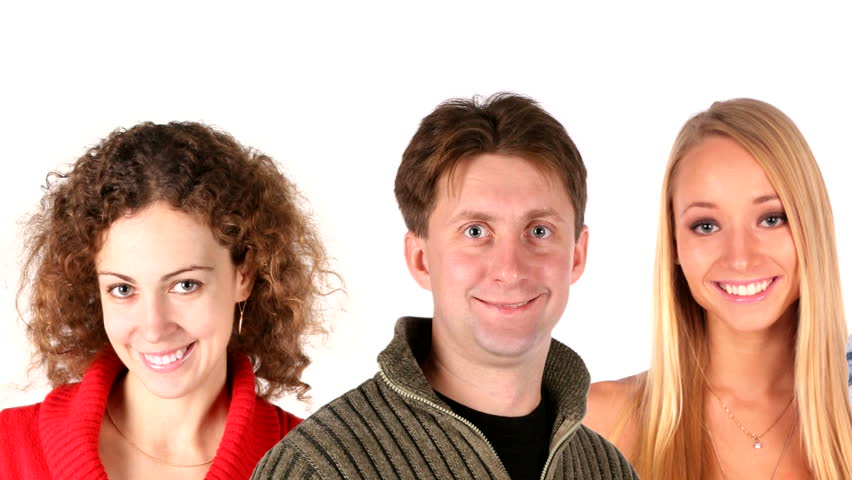without_mask: (431, 158, 561, 347), (91, 219, 230, 394), (676, 148, 802, 330)
